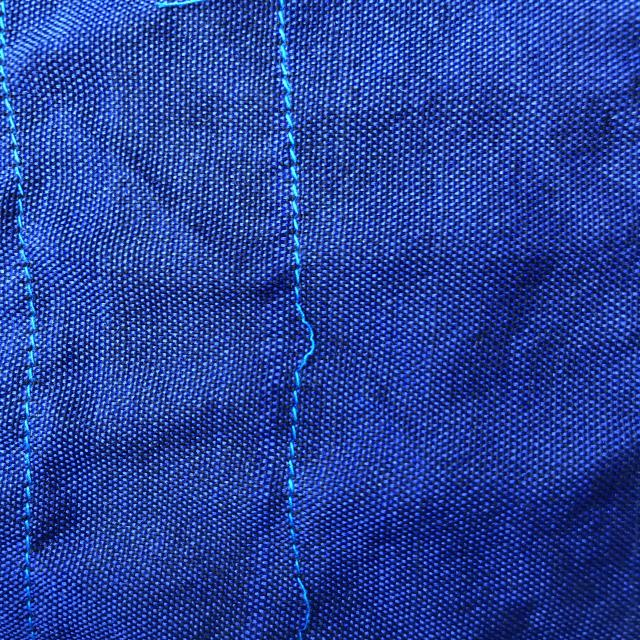skip: (273, 278, 330, 384)
